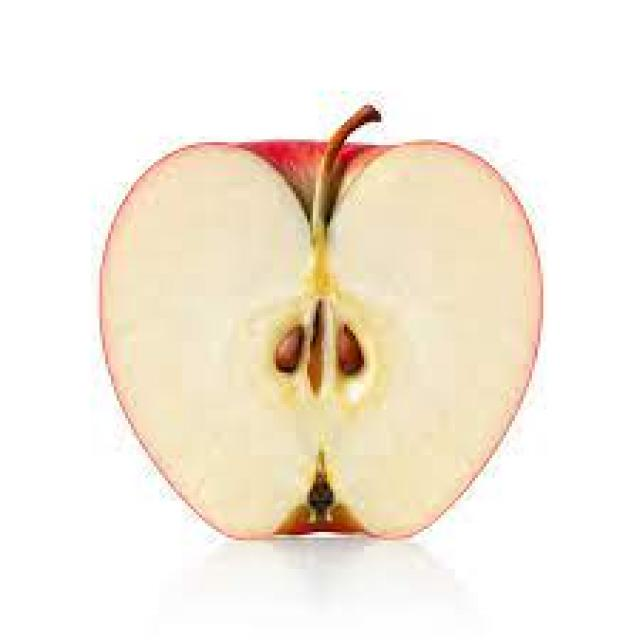Apple: (94, 105, 543, 539)
